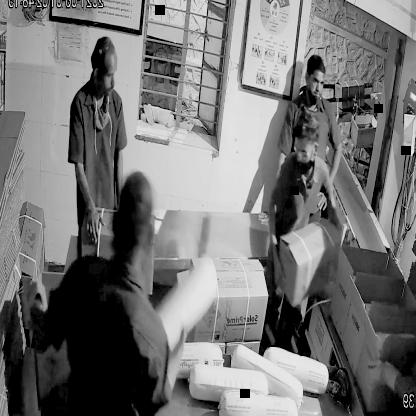no_goggles: (87, 63, 120, 85), (303, 70, 329, 95), (292, 142, 318, 166)
